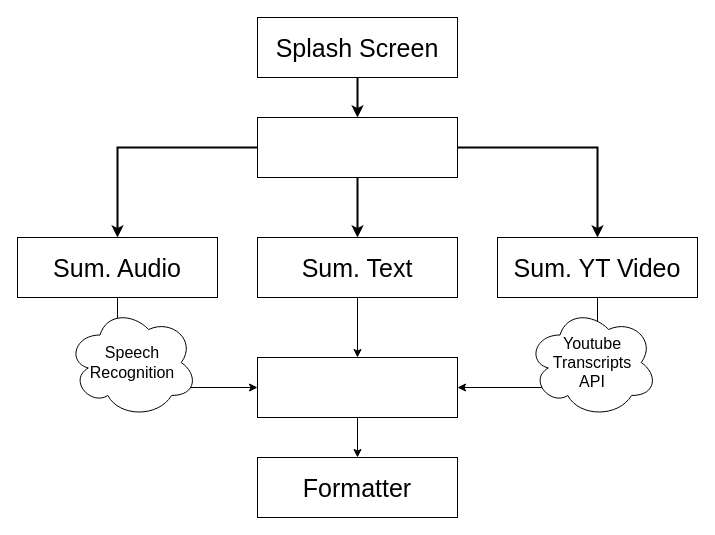
This 715x535 diagram has some shape labels left out. Here are the shapes that lost their labels. From the top down, the box of each, then its label:
(256, 116, 458, 178): Home Screen
(256, 356, 458, 418): OpenAI
